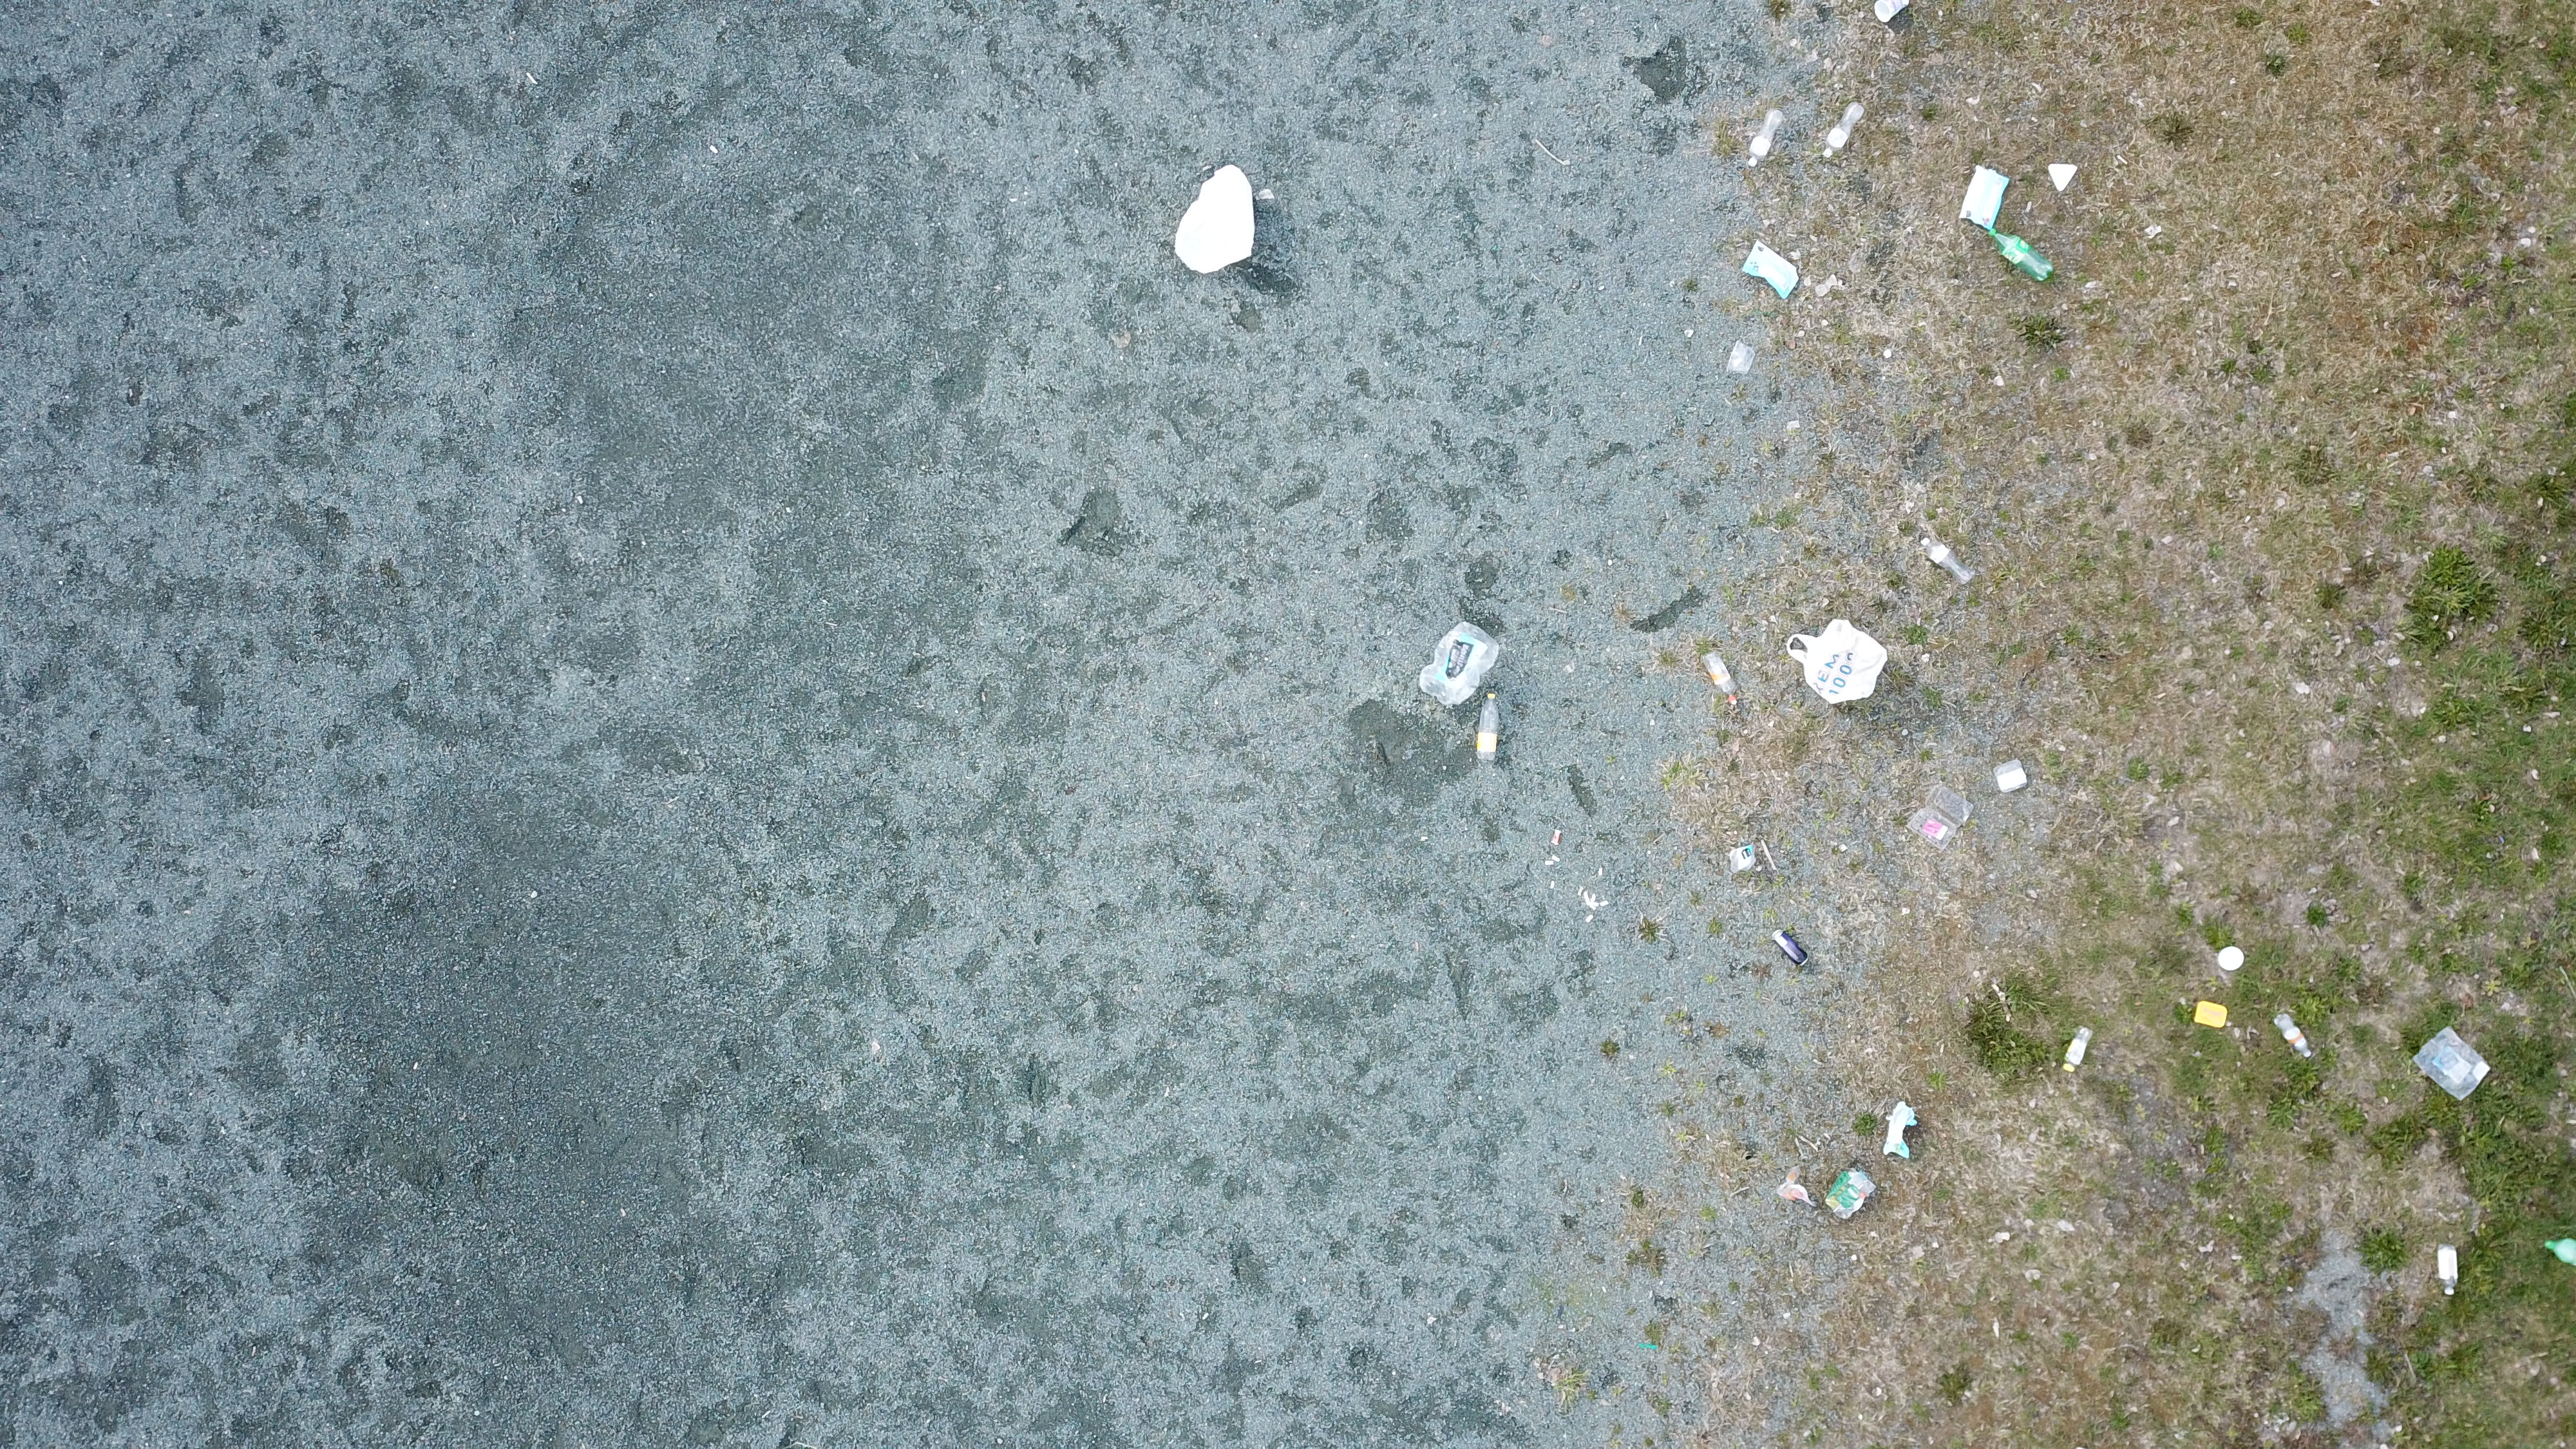Can: (1771, 929, 1808, 970)
Plastic: (1171, 165, 1258, 280), (1787, 617, 1888, 702), (1415, 617, 1499, 708), (2411, 1023, 2491, 1100), (1905, 784, 1974, 851), (1739, 241, 1799, 303), (1957, 165, 2010, 230), (1826, 1166, 1875, 1219), (1881, 1100, 1918, 1161), (1776, 1166, 1817, 1208), (1990, 759, 2028, 793), (1725, 340, 1755, 379), (1872, 0, 1911, 25), (2045, 163, 2077, 193), (2194, 1001, 2229, 1028), (1727, 844, 1757, 874), (2217, 947, 2245, 971), (1759, 837, 1778, 872), (1552, 828, 1560, 847)
PlasticBottle: (1987, 230, 2056, 281), (1918, 538, 1976, 587), (1822, 101, 1863, 159), (1748, 108, 1783, 170), (1700, 649, 1737, 706), (2273, 1012, 2312, 1060), (1477, 694, 1500, 764), (2061, 1024, 2091, 1072), (2436, 1242, 2459, 1297), (2546, 1238, 2576, 1267)
